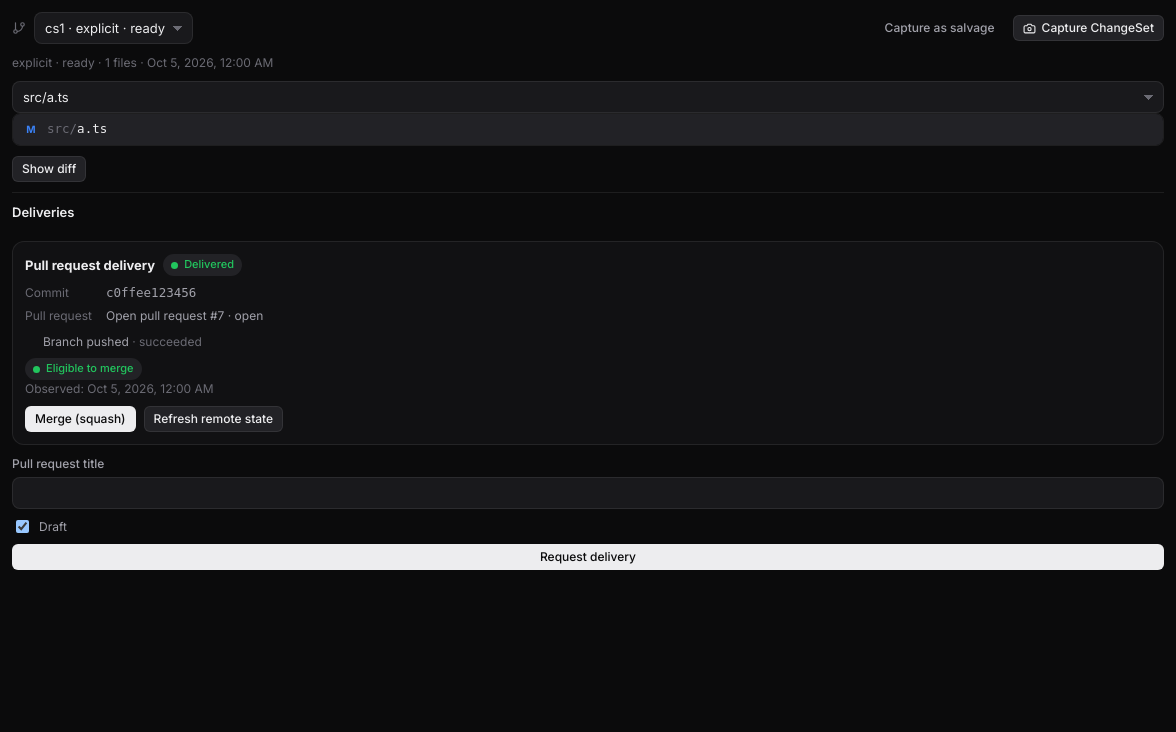
Test: Changes panel › renders a diagnosis for executor_unavailable and never activates compute
Expected: the text "Eligible to merge" is shown, [25,358,142,380]
Select "Live changes" in the dropdown named "ChangeSet". click: (114, 28)
box: [34,12,193,44]
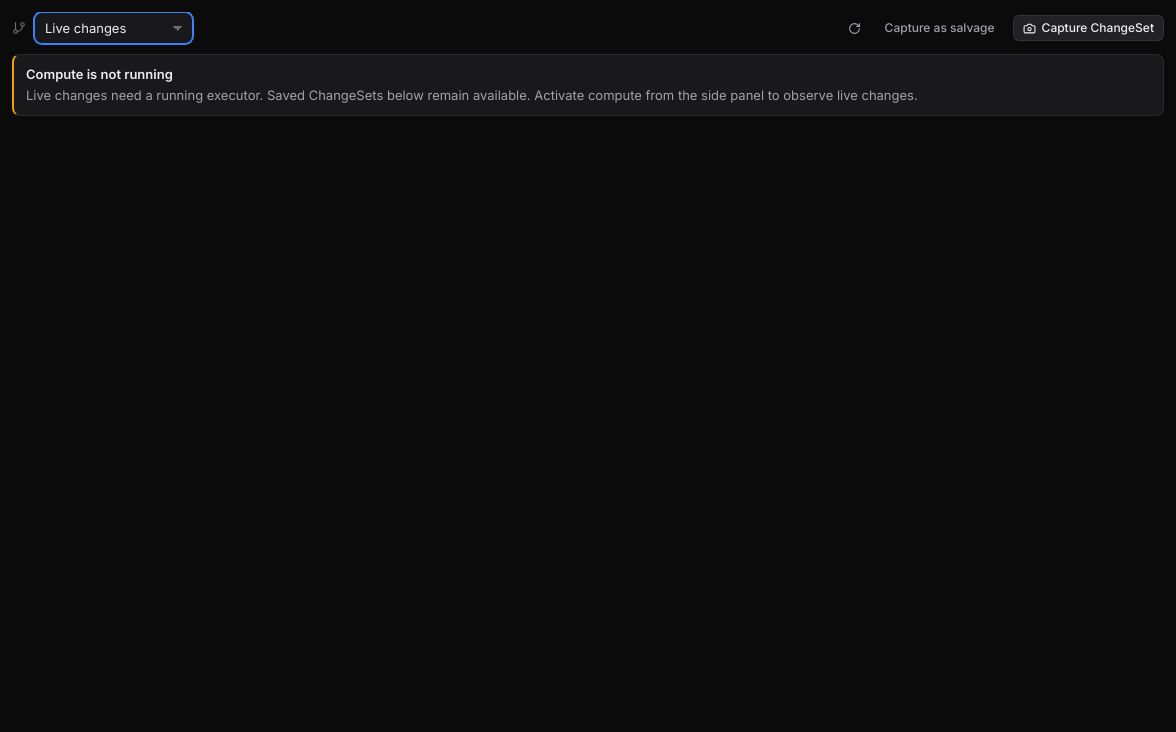
Expected: the text "Compute is not running" is shown, [26,66,173,82]
